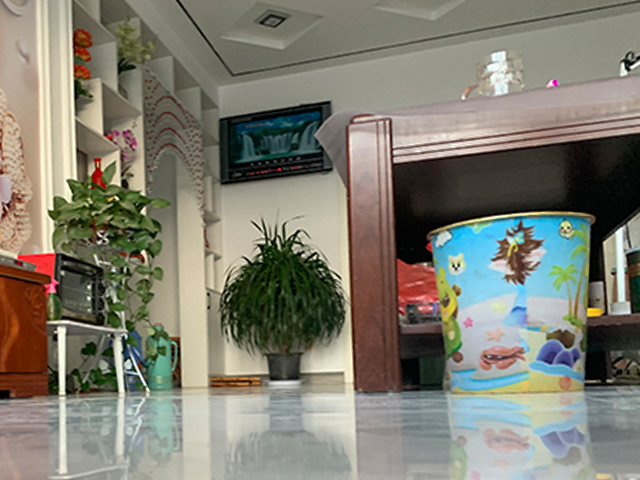cabinet: (176, 240, 227, 388), (1, 263, 53, 399)
table: (344, 73, 640, 397), (44, 318, 130, 396)
trashcan: (424, 209, 597, 398)
